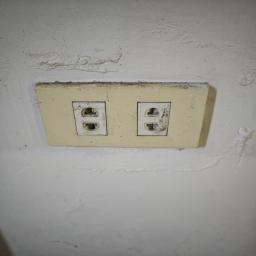outlet: (32, 81, 215, 152)
